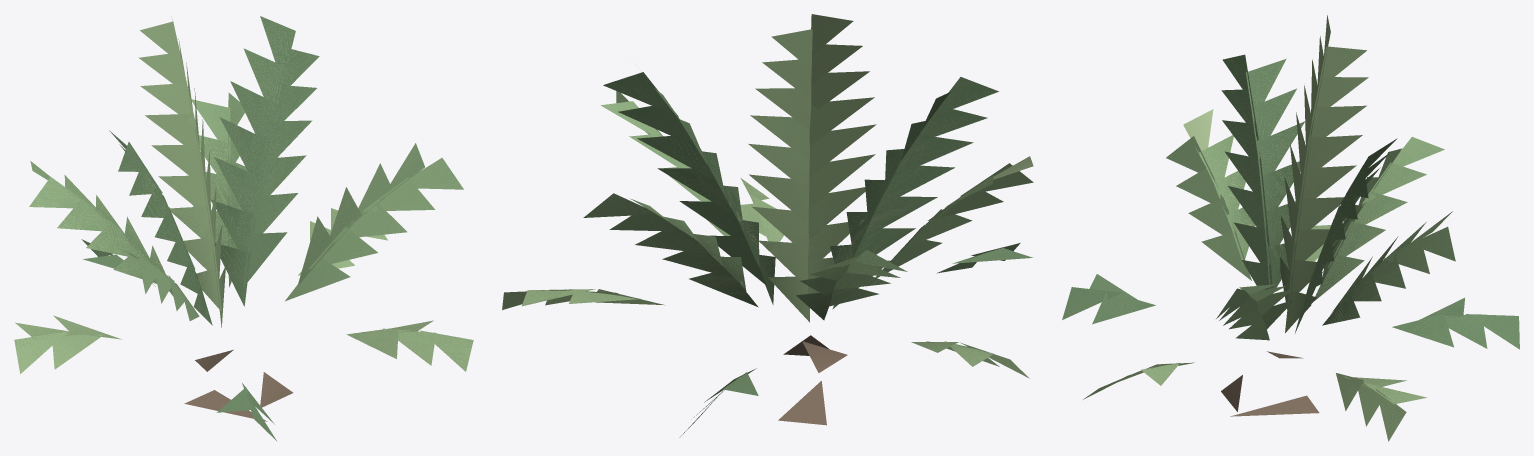
Rendered from fern.lod.glb.
3 renders of one model, left to right at view 1: azimuth 30°, elevation 25°; view 2: azimuth 150°, elevation 25°; view 3: azimuth 270°, elevation 25°, orthographic. The views are drawn at different scales.
Visible parts, largest first — view 1: fern; view 2: fern; view 3: fern.
Part boxes in pixels (<box>): fern: <box>14,16,473,440</box>; fern: <box>502,14,1033,437</box>; fern: <box>1062,15,1519,441</box>.
Bounding box in the file's own units: 1.07 × 0.9152 × 1.04.
